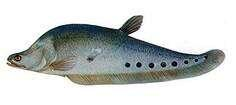Knifefish: (7, 15, 226, 85)
